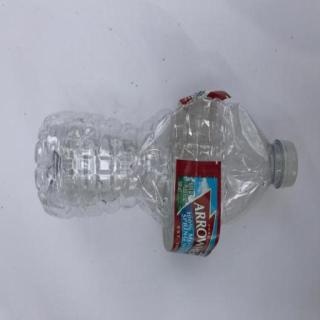Anorganik: (32, 84, 301, 262)
